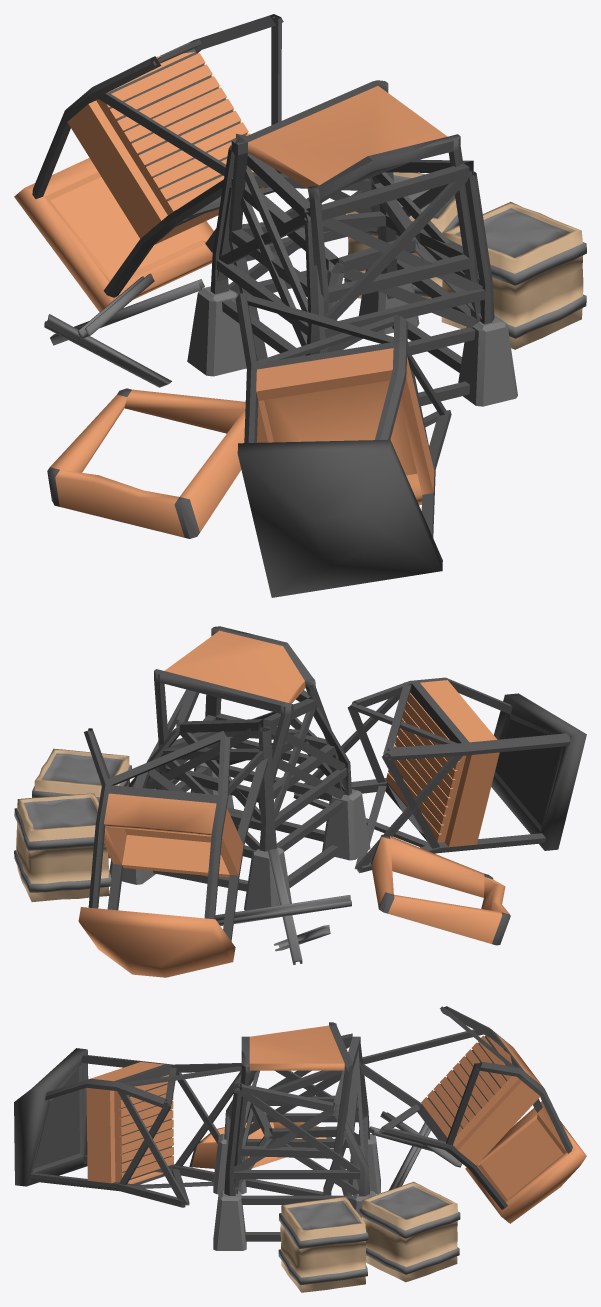
Rendered from broken_watchtower.fbx.
The picture shows the model from 3 angles, top to bottom: view 1: azimuth 30°, elevation 25°; view 2: azimuth 150°, elevation 25°; view 3: azimuth 270°, elevation 25°; orthographic projection. The views are drawn at different scales.
Visible parts, largest first — view 1: watchtower_broken_t3, watchtower_broken_t2, watchtower_broken_t1; view 2: watchtower_broken_t3, watchtower_broken_t2, watchtower_broken_t1; view 3: watchtower_broken_t3, watchtower_broken_t2, watchtower_broken_t1.
Part boxes in pixels (x1,y1,x2,y2): watchtower_broken_t3: (44,133,586,597); watchtower_broken_t2: (14,14,481,356); watchtower_broken_t1: (47,80,480,538); watchtower_broken_t3: (14,677,586,964); watchtower_broken_t2: (78,728,345,977); watchtower_broken_t1: (153,626,510,945); watchtower_broken_t3: (14,1033,461,1292); watchtower_broken_t2: (235,1006,586,1223); watchtower_broken_t1: (189,1022,358,1241).
Bounding box in the file's own units: 263 × 139 × 343.
Materials: 5 (5 with a texture image).
